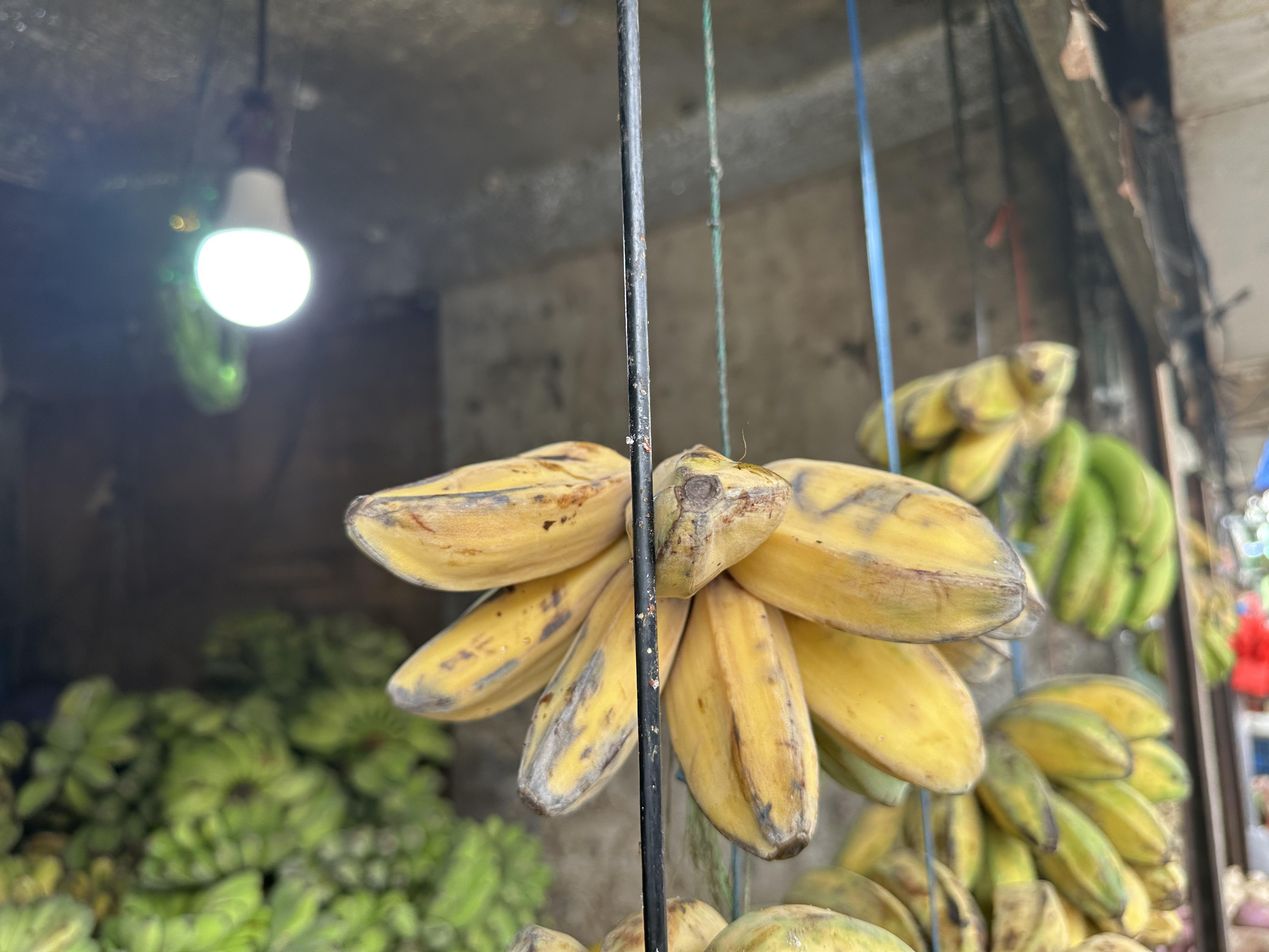ripe: (348, 441, 1028, 863)
